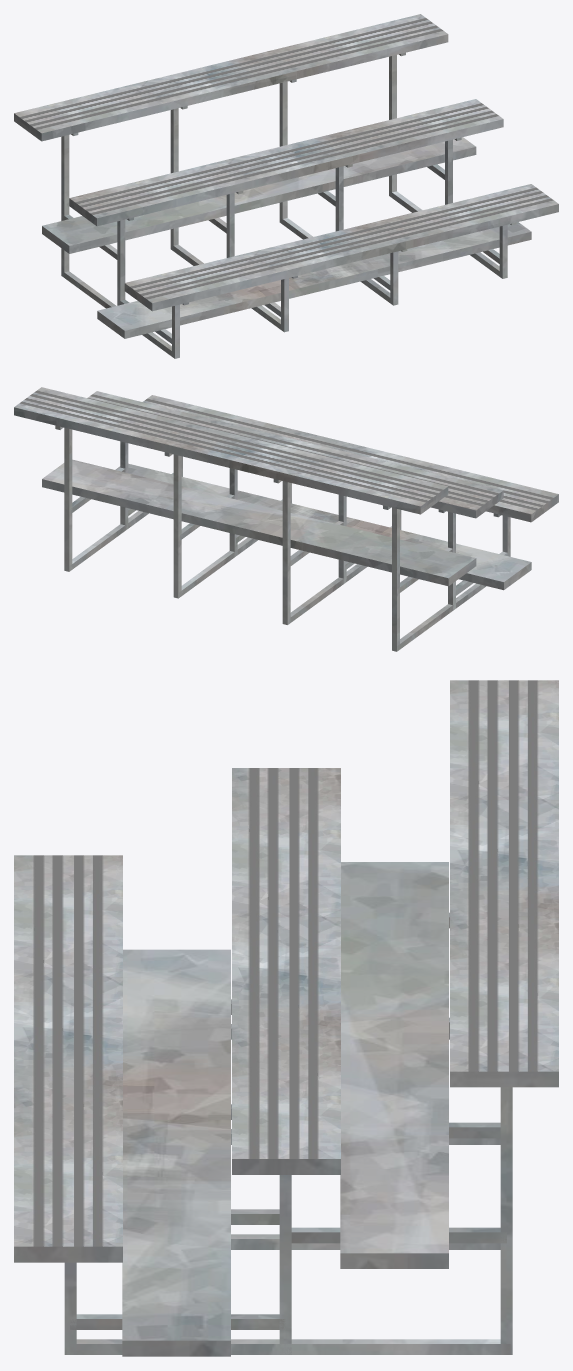
File: Estrade.fbx
3 renders of one model, top to bottom at view 1: azimuth 30°, elevation 25°; view 2: azimuth 150°, elevation 25°; view 3: azimuth 270°, elevation 25°, orthographic. The views are drawn at different scales.
Parts seen in each view (by area): view 1: Estrade; view 2: Estrade; view 3: Estrade.
Boxes of the visible parts, bbox=[...] form: Estrade: bbox=[14, 14, 558, 358]; Estrade: bbox=[14, 387, 558, 651]; Estrade: bbox=[14, 680, 558, 1356].
Bounding box in the file's own units: 968 × 370 × 570.
